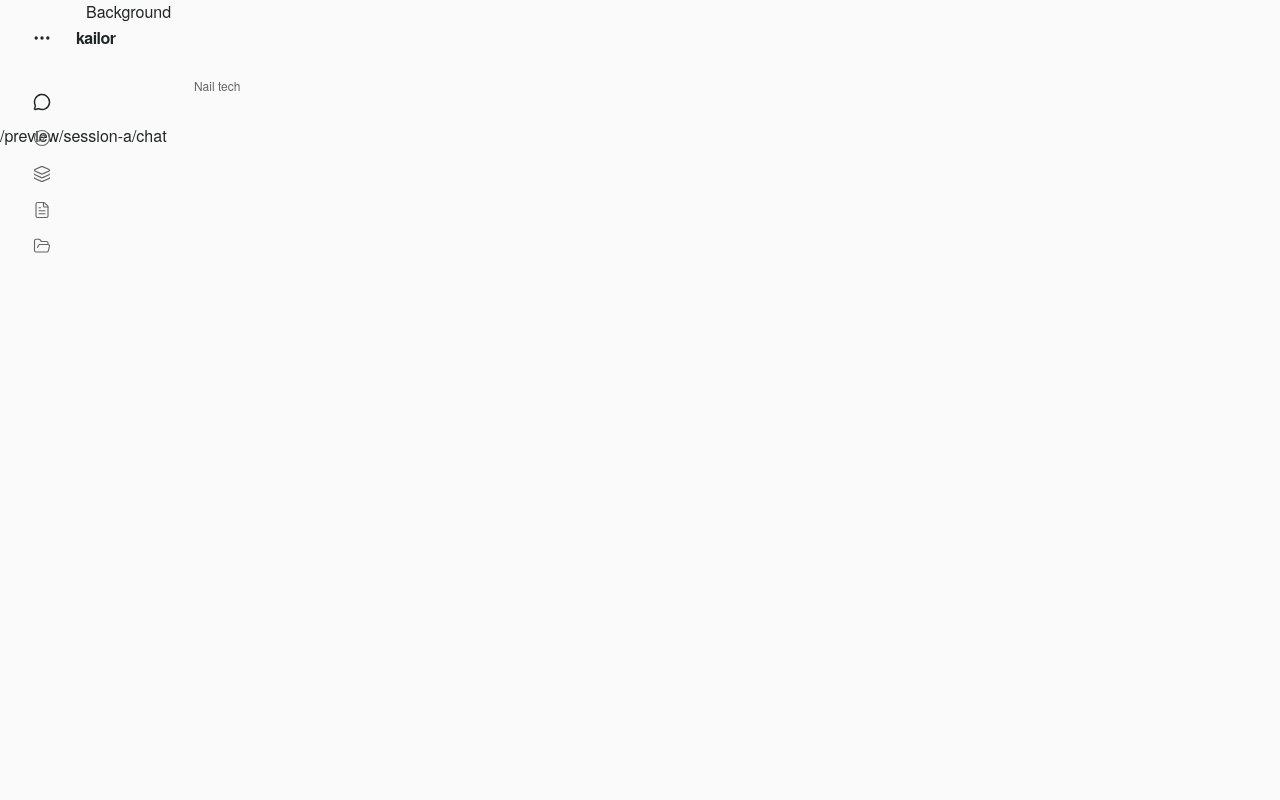
traps keyboard focus and consolidates guest identity, Settings and Account without sign out
Click the button named "Open navigation" at (42, 38), box x1=20 y1=16 x2=64 y2=60
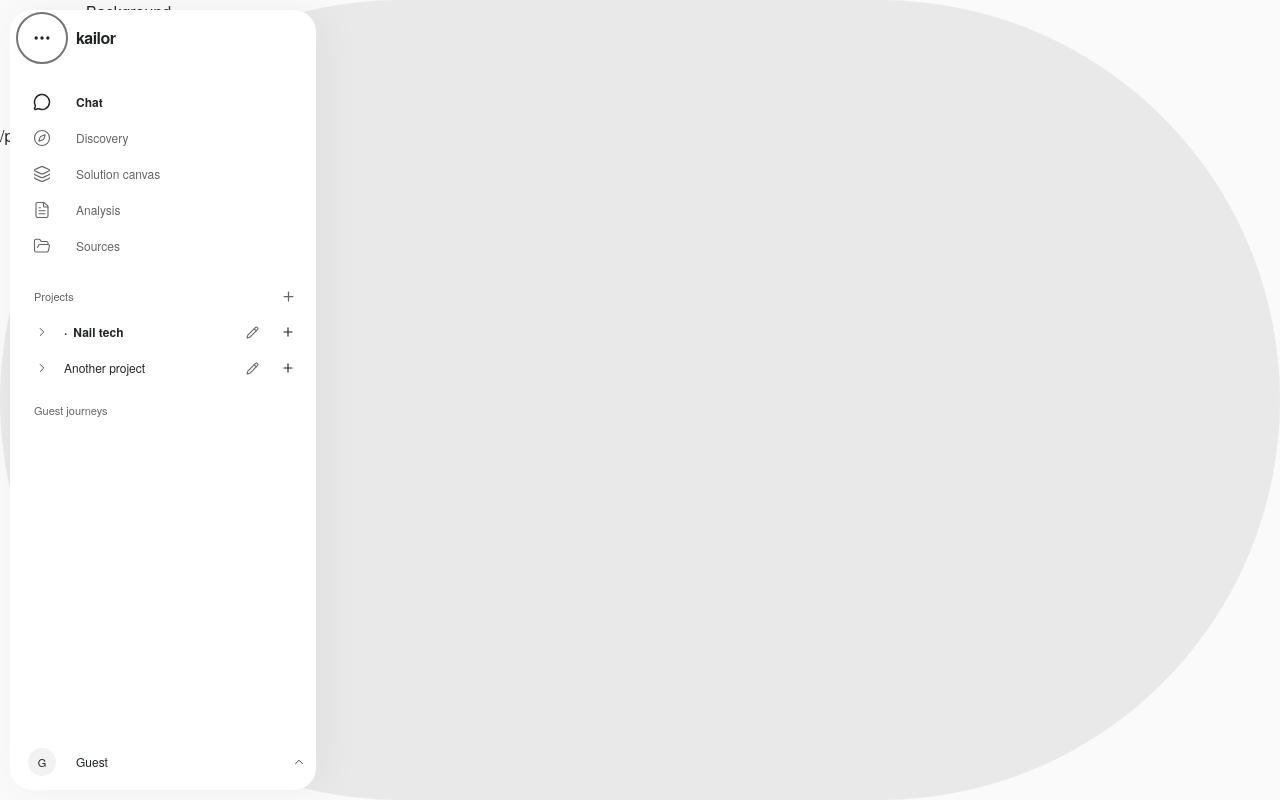
Press Tab
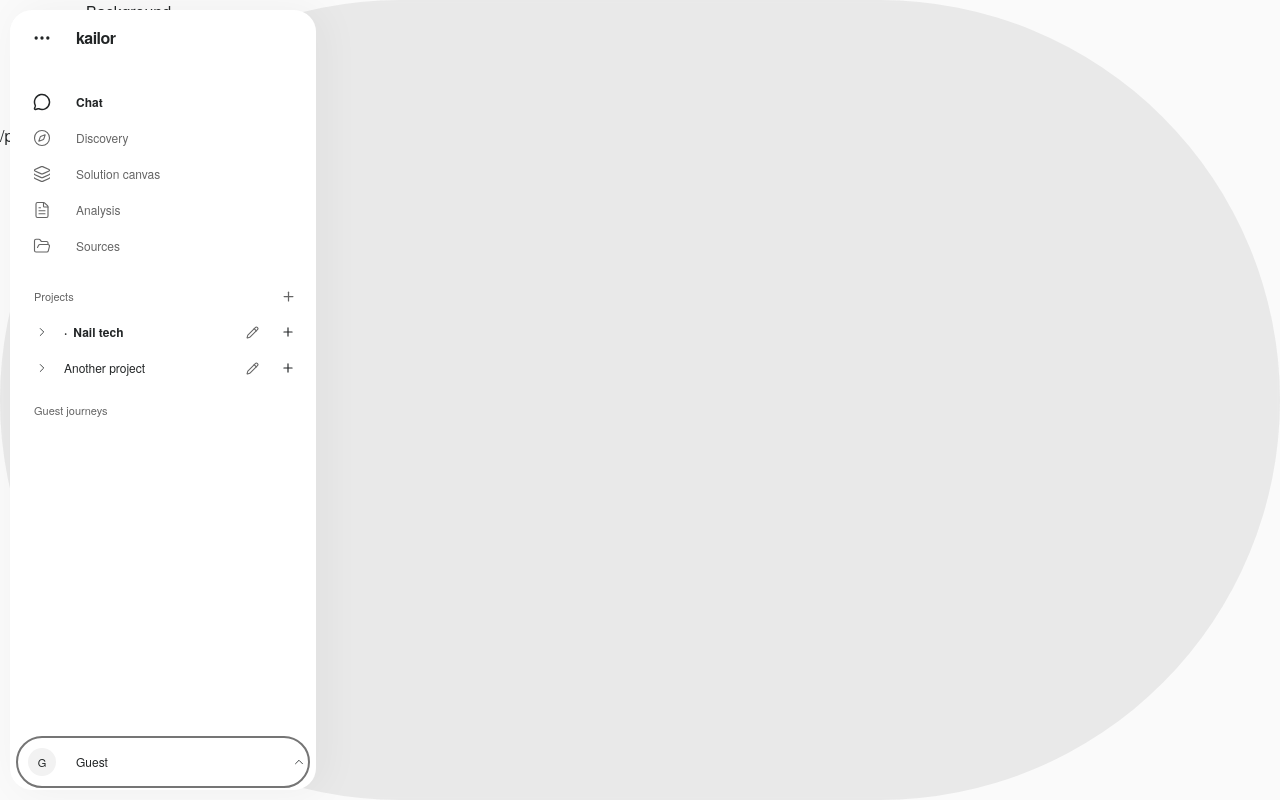
Press Tab
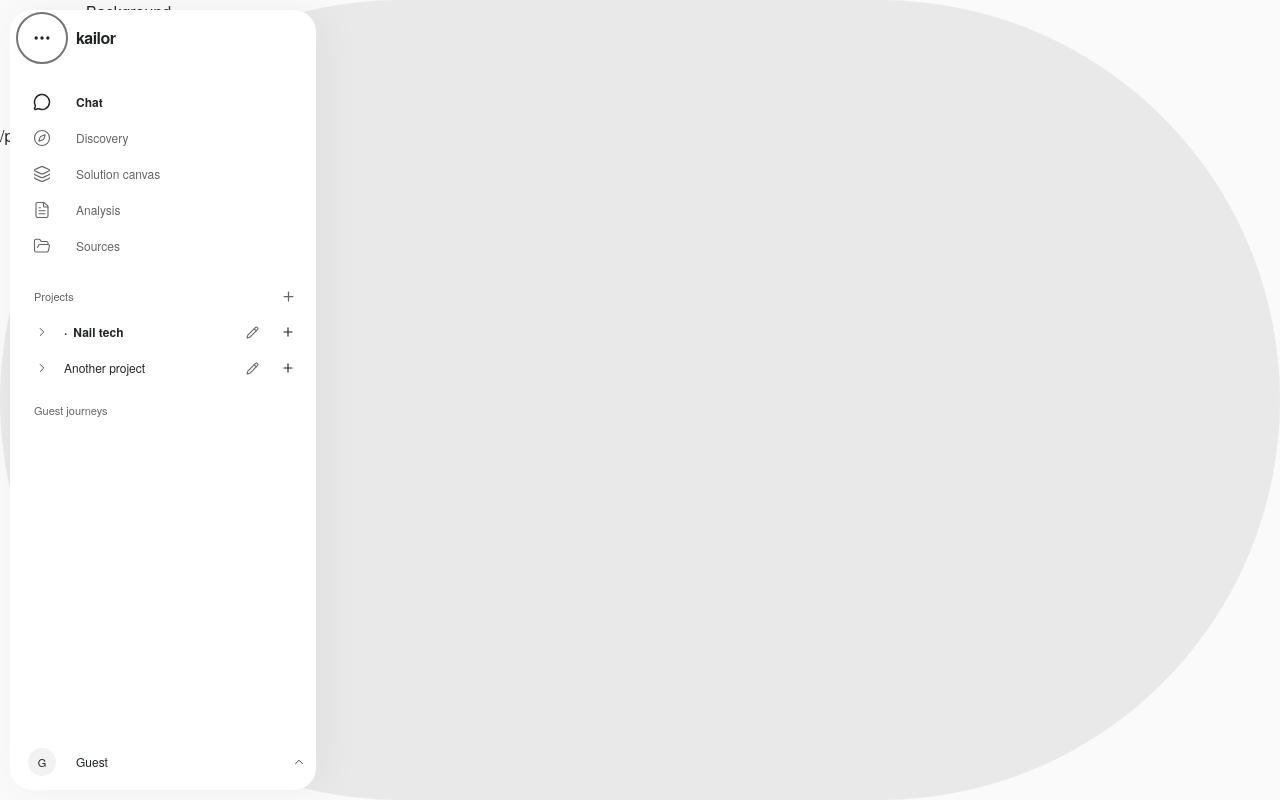
Click the button with aria-label "Guest, account options" at (92, 762), box x1=20 y1=740 x2=306 y2=784
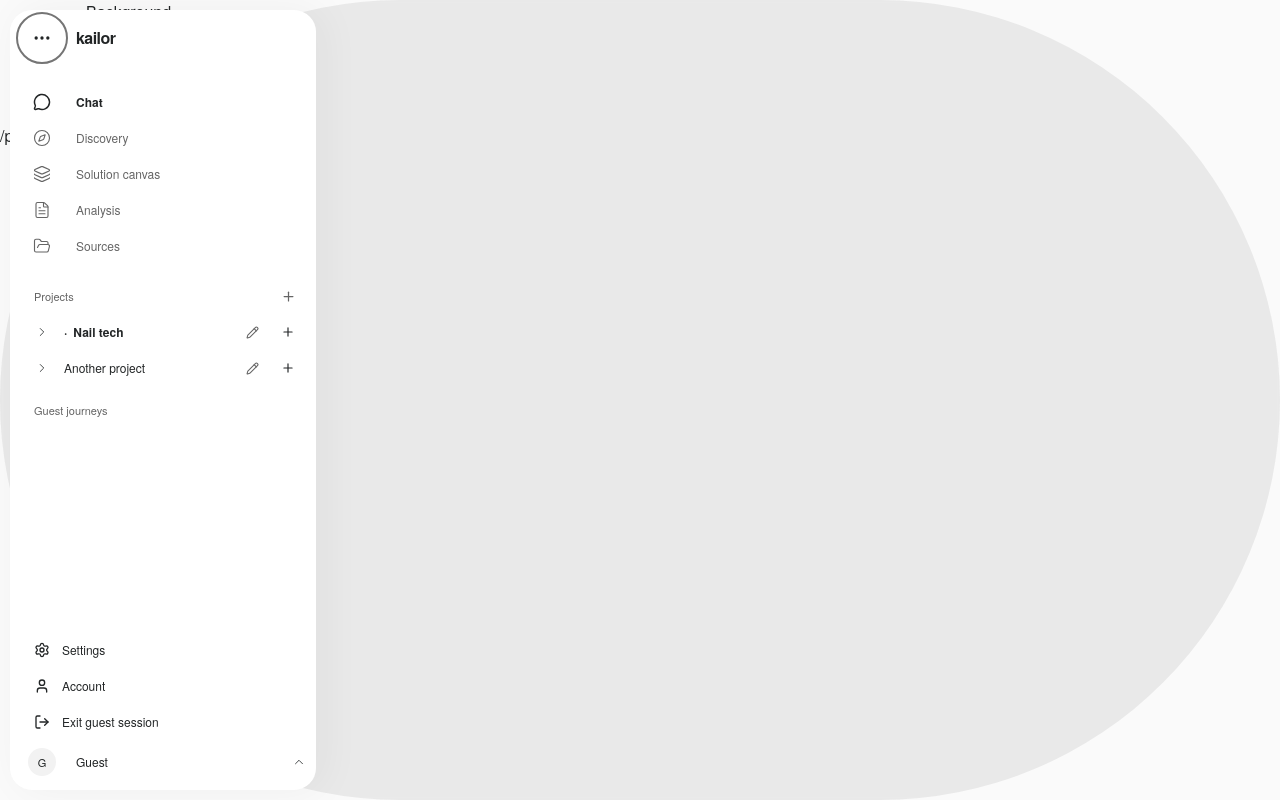
Expected: the link "Account" is shown, x1=34 y1=677 x2=105 y2=694
